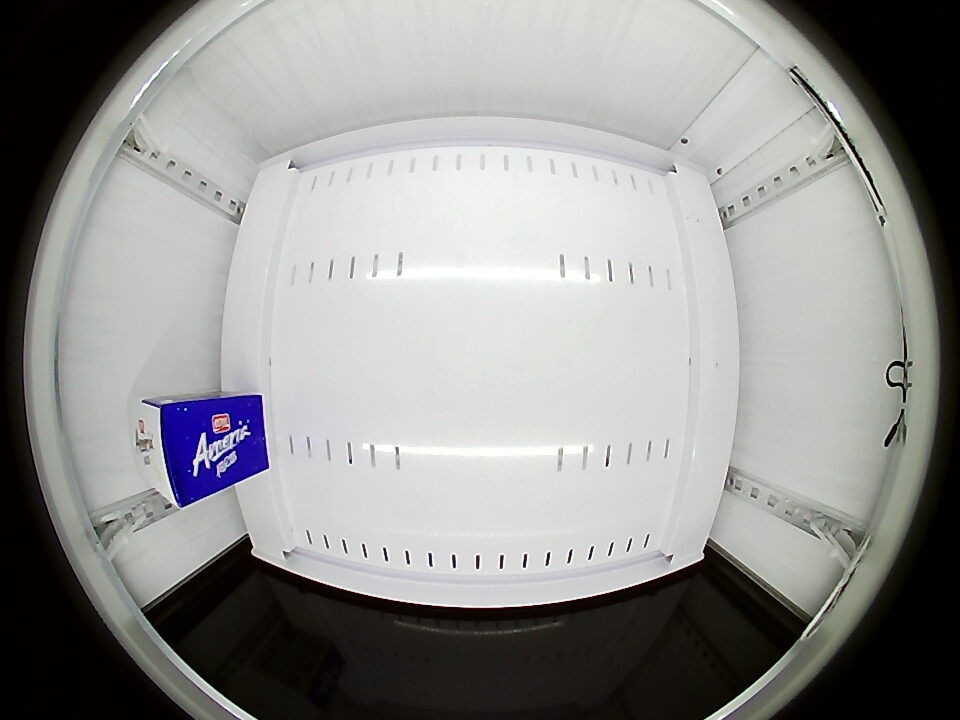meiniye: (133, 397, 220, 508)
